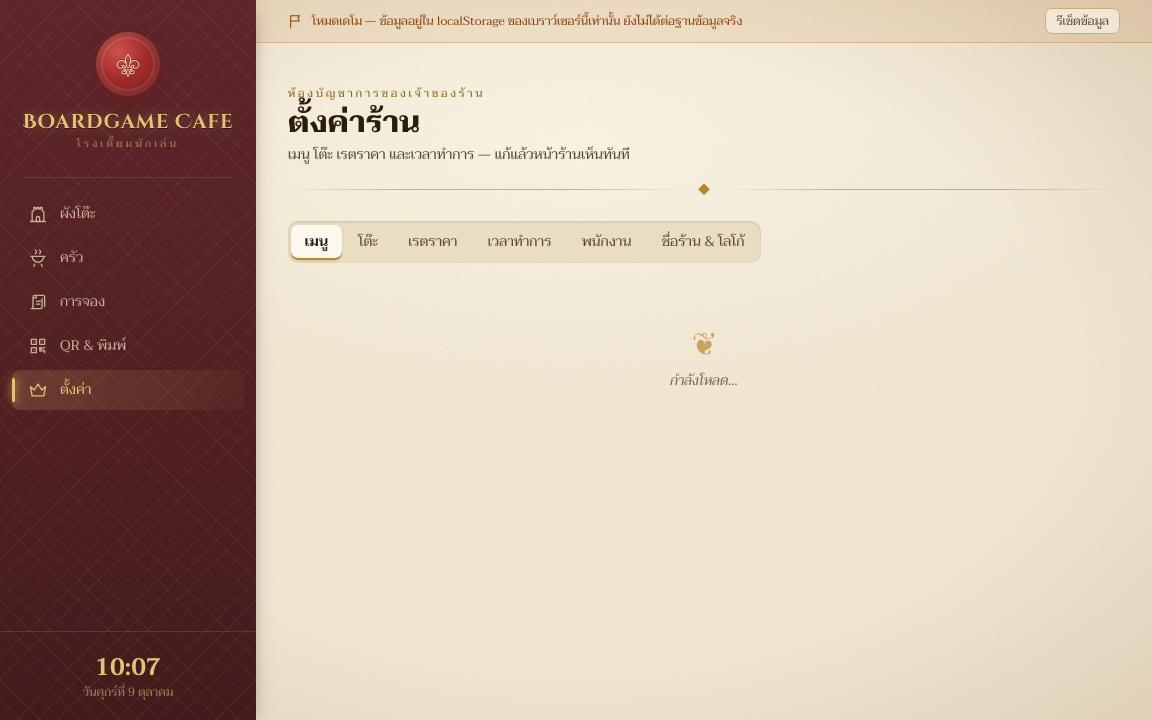
Scenario: หน้าจัดการพนักงาน › เปิดแท็บพนักงานแล้วเห็นรายชื่อพร้อมชื่อผู้ใช้
Click the button "พนักงาน".
click(607, 242)  # box [568,225,645,260]
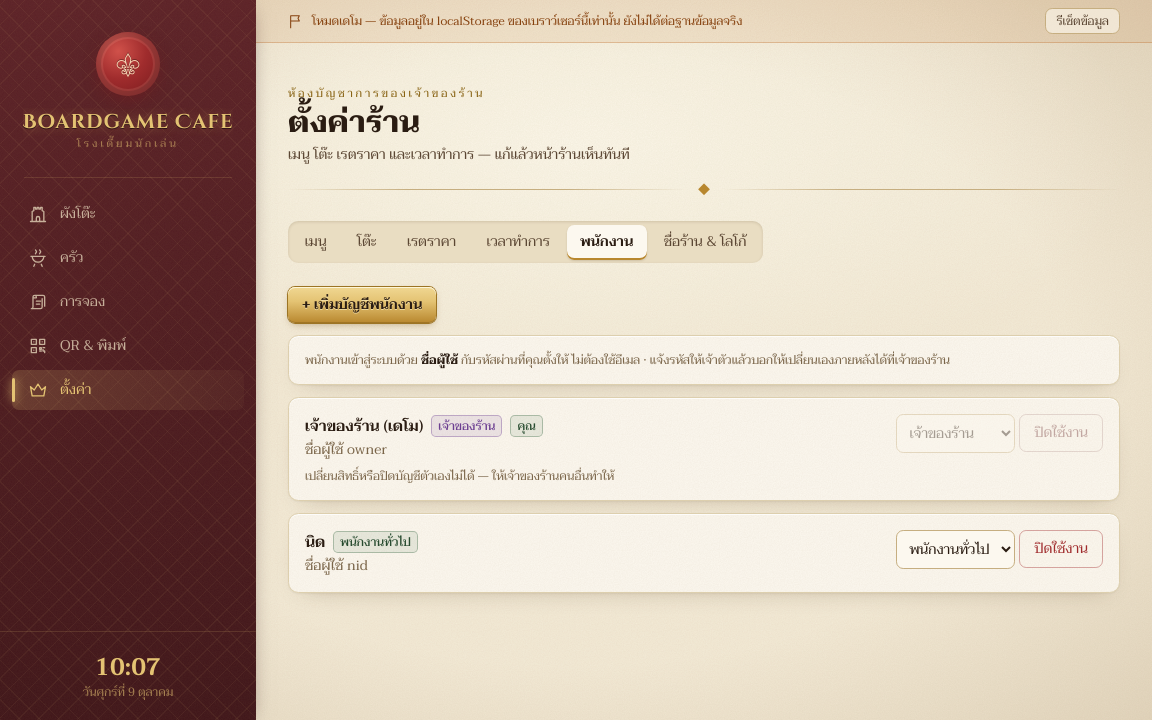
expect the text "เจ้าของร้าน (เดโม)" is shown: met, box [305,414,423,438]
expect the text "ชื่อผู้ใช้ owner" is shown: met, box [305,438,387,461]
expect the text "นิด" is shown: met, box [305,530,325,554]
